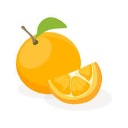orange: (15, 23, 82, 93)
